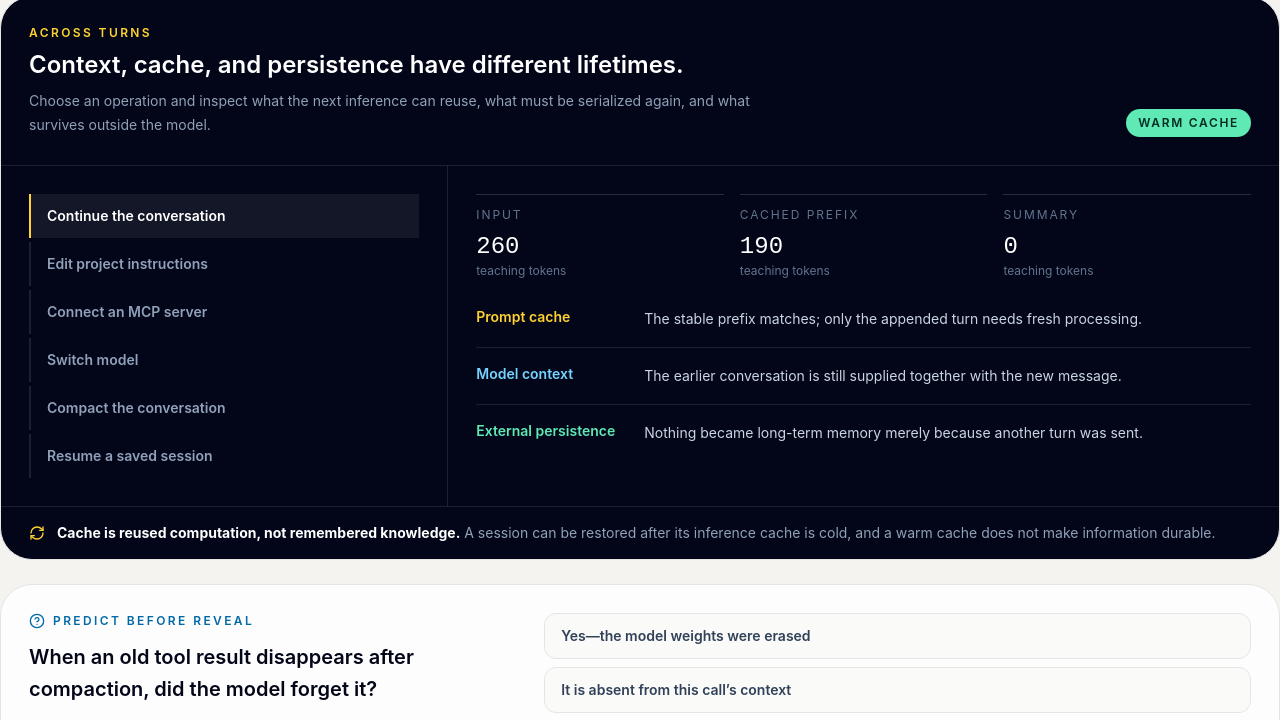
Scenario: ContextHarnessLabPage › separates model-specific caches from restored context
This screenshot has width=1280, height=720.
(page scrolled)
What coordinates should you click on to do the following:
click the button with test id "context-action-switch-model"
I would click on:
 (93, 360)
Its box is [29, 338, 419, 382].
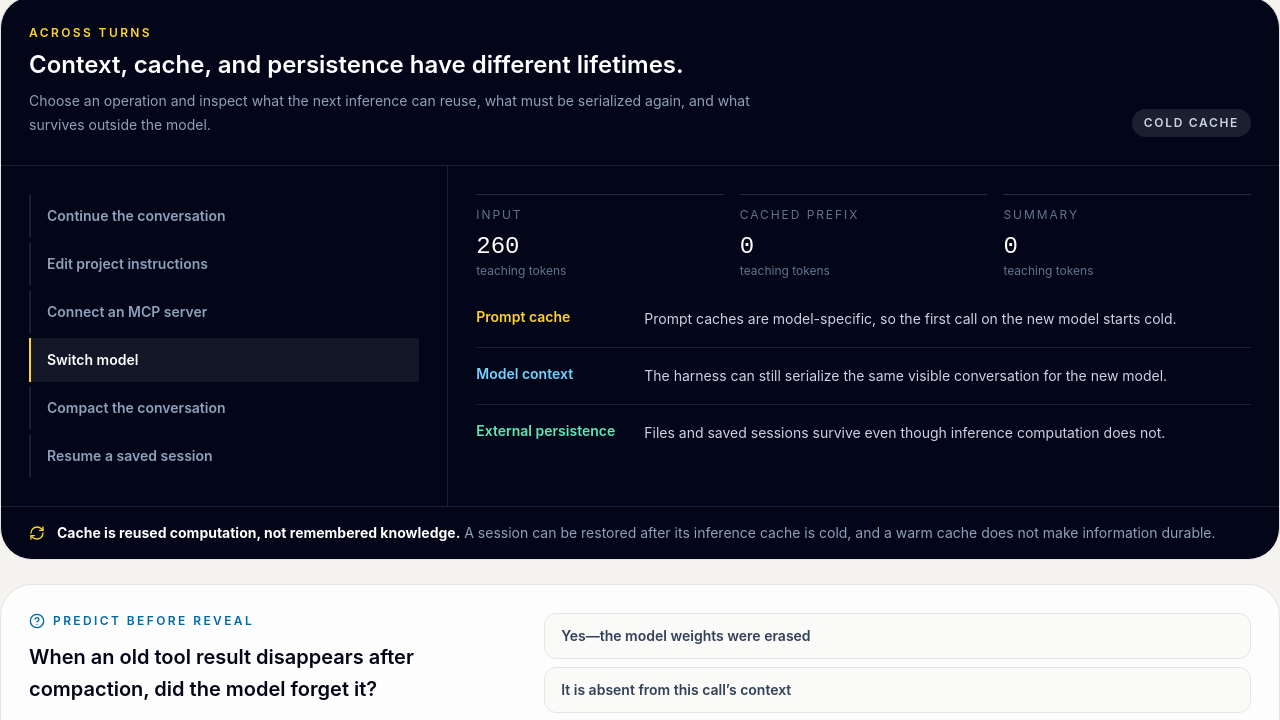
Result: the text with test id "context-cache-state" reads "cold cache" at [1132, 109, 1251, 137]
Result: the element with test id "context-lifecycle-outcome" shows "model-specific" at [644, 310, 1177, 327]
